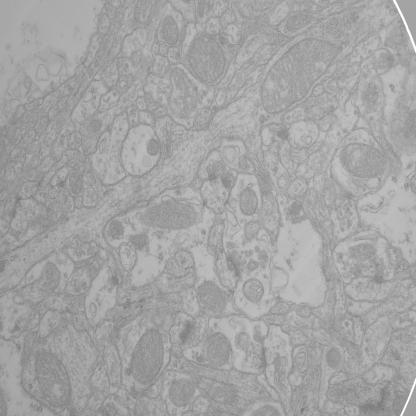mitochondria: (258, 34, 342, 116), (127, 325, 166, 388), (33, 350, 73, 410), (186, 28, 228, 84), (339, 139, 391, 182), (141, 198, 198, 232), (196, 278, 226, 319), (165, 376, 196, 410), (205, 332, 231, 370), (241, 275, 265, 305), (160, 13, 180, 47), (286, 9, 314, 32), (238, 186, 258, 216), (324, 343, 343, 371), (127, 233, 150, 252), (68, 168, 83, 196), (109, 217, 125, 242), (146, 137, 160, 157)
